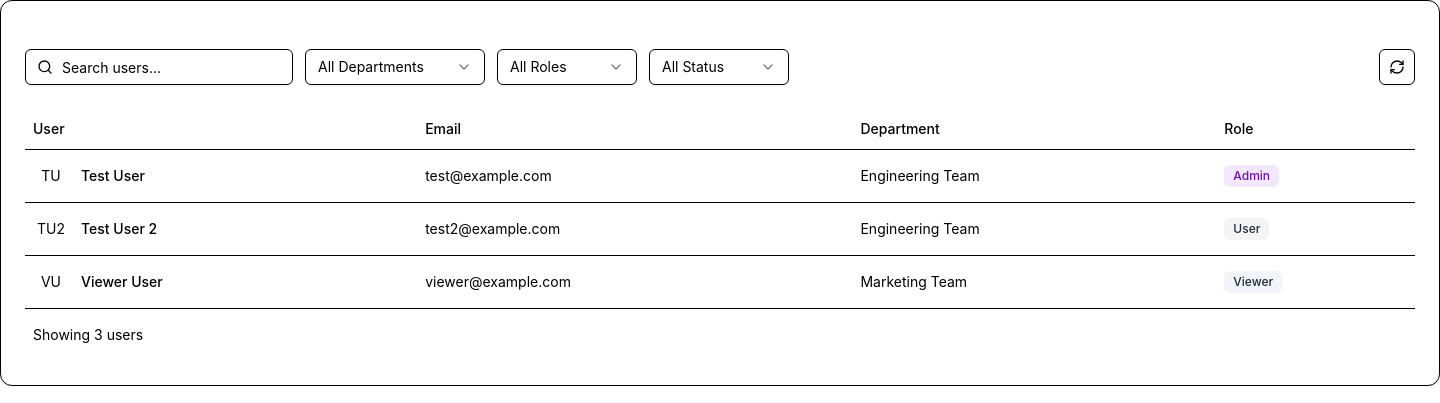
Scenario: UsersTable › displays singular 'user' for single result
The image size is (1440, 403).
Type "Viewer" into the field with placeholder "Search users...".
click(159, 67); type("Viewer")  # box [25,49,293,85]
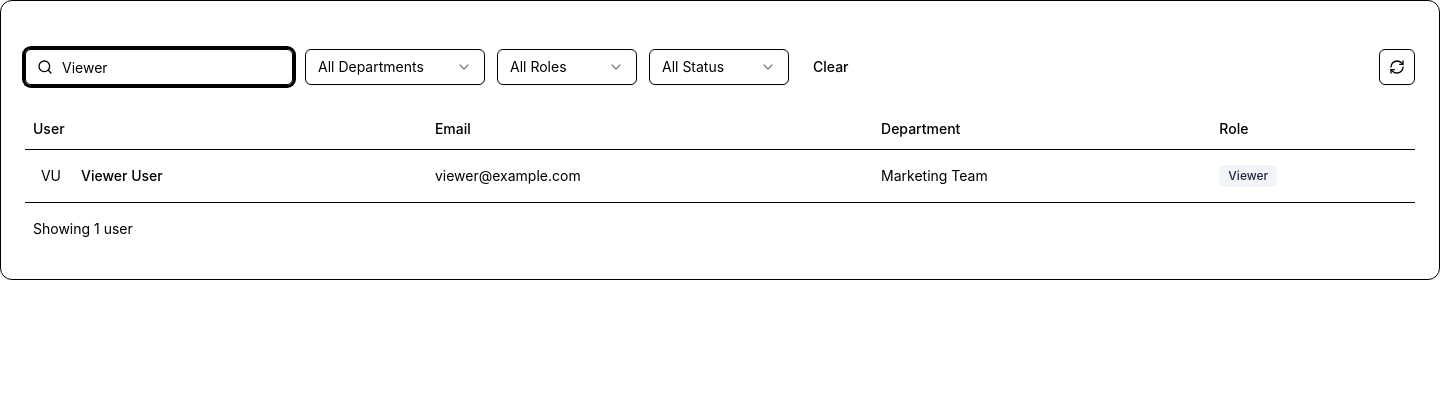
Expected: the text "Showing 1 user" is shown, [33,218,133,238]
